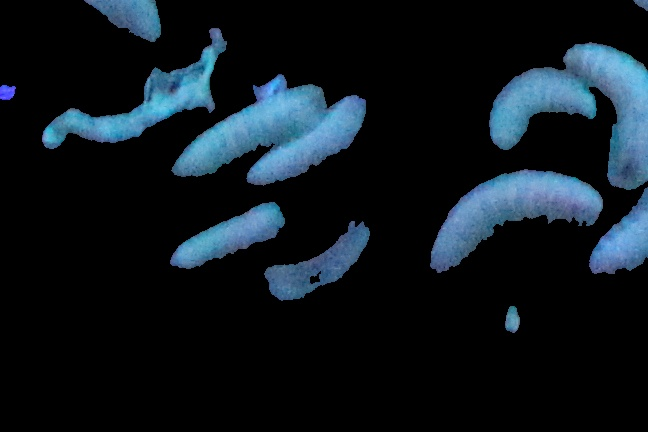larvae: (429, 174, 602, 276), (168, 84, 329, 174), (245, 91, 372, 187), (572, 34, 648, 194), (262, 214, 377, 309), (493, 70, 595, 151), (10, 1, 162, 53), (170, 203, 287, 268)
